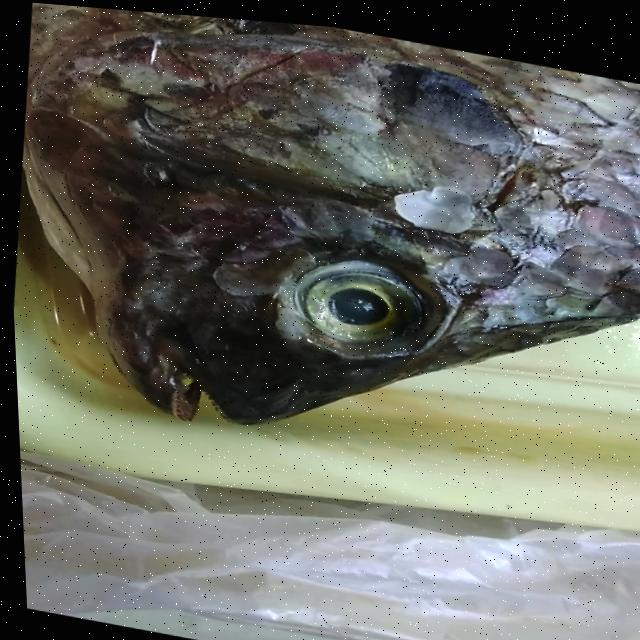Non-Fresh: (242, 199, 483, 396)
